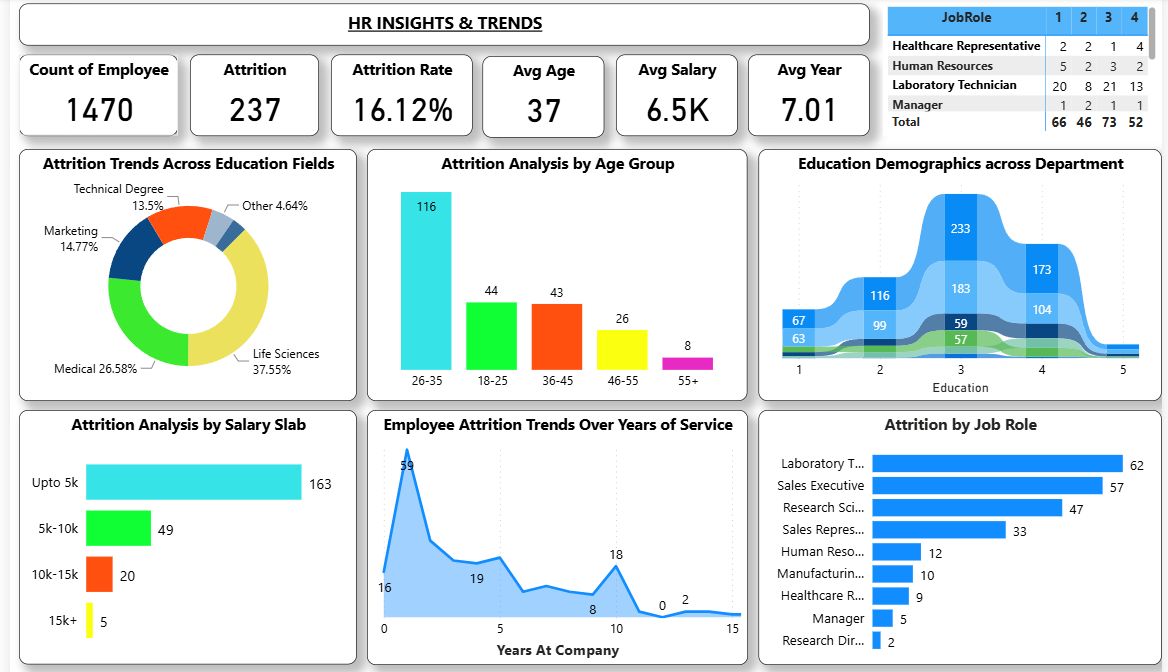

The dashboard page shown, as its layout file describes it:
{"tool":"powerbi","page":{"name":"Dashboard","canvas":[1280,770],"ordinal":1},"visuals":[{"type":"textbox","box":[9.4,10.9,945.5,46.9],"z":0},{"type":"card","title":"Count of Employee","fields":{"Values":["CountNonNull(HR_Analytics.EmpID)"]},"box":[9.5,68.3,176.4,90.6],"z":1000},{"type":"card","title":"Attrition ","fields":{"Values":["Sum(HR_Analytics.Attrition_Count)"]},"box":[200.3,68.3,143,90.6],"z":2000},{"type":"card","title":"Attrition Rate","fields":{"Values":["HR_Analytics.AttritionRate"]},"box":[356,68.3,157.4,90.6],"z":3000},{"type":"card","title":"Avg Age","fields":{"Values":["HR_Analytics.Avg Age"]},"box":[524.5,69.9,135.1,90.6],"z":4000},{"type":"card","title":"Avg Salary","fields":{"Values":["HR_Analytics.Avg_Salary"]},"box":[673.9,68.3,135.1,90.6],"z":5000},{"type":"card","title":"Avg Year","fields":{"Values":["Avg(HR_Analytics.YearsAtCompany)"]},"box":[820.1,68.3,135.1,90.6],"z":6000},{"type":"donutChart","title":"Attrition Trends Across Education Fields","fields":{"Category":["HR_Analytics.EducationField"],"Y":["HR_Analytics.Sum_Attrition_Count"]},"box":[9.5,173.2,375.1,279.7],"z":7000},{"type":"columnChart","title":"Attrition Analysis by Age Group","fields":{"Category":["HR_Analytics.AgeGroup"],"Y":["HR_Analytics.Sum_Attrition_Count"]},"box":[397.4,173.2,422.8,279.7],"z":8000},{"type":"ribbonChart","title":"Education Demographics across Department ","fields":{"Category":["HR_Analytics.Education"],"Y":["CountNonNull(HR_Analytics.Department)"],"Series":["HR_Analytics.EducationField"]},"box":[831.3,173.2,448.2,279.7],"z":9000},{"type":"barChart","title":"Attrition Analysis by Salary Slab","fields":{"Category":["HR_Analytics.SalarySlab"],"Y":["HR_Analytics.Sum_Attrition_Count"]},"box":[9.6,463.4,375.5,282.8],"z":10000},{"type":"areaChart","title":"Employee Attrition Trends Over Years of Service","fields":{"Category":["HR_Analytics.YearsAtCompany"],"Y":["HR_Analytics.Sum_Attrition_Count"]},"box":[397,463,423,283],"z":11000},{"type":"barChart","title":"Attrition by Job Role","fields":{"Category":["HR_Analytics.JobRole"],"Y":["HR_Analytics.Sum_Attrition_Count"]},"box":[831,463,448,283],"z":12000},{"type":"pivotTable","fields":{"Rows":["HR_Analytics.JobRole"],"Columns":["HR_Analytics.JobSatisfaction"],"Values":["HR_Analytics.Sum_Attrition_Count"]},"box":[970,9.6,308.4,148.6],"z":13000}]}

Visuals, with their boxes on the page's 1280x770 design canvas (x1, y1, x2, y2). These are canvas units, not pixel positions in the 1168x672 screenshot, which may show the page scaled, cropped or inside an application window:
textbox: [9, 11, 955, 58]
"Count of Employee" card: [10, 68, 186, 159]
"Attrition " card: [200, 68, 343, 159]
"Attrition Rate" card: [356, 68, 513, 159]
"Avg Age" card: [524, 70, 660, 160]
"Avg Salary" card: [674, 68, 809, 159]
"Avg Year" card: [820, 68, 955, 159]
"Attrition Trends Across Education Fields" donutChart: [10, 173, 385, 453]
"Attrition Analysis by Age Group" columnChart: [397, 173, 820, 453]
"Education Demographics across Department " ribbonChart: [831, 173, 1280, 453]
"Attrition Analysis by Salary Slab" barChart: [10, 463, 385, 746]
"Employee Attrition Trends Over Years of Service" areaChart: [397, 463, 820, 746]
"Attrition by Job Role" barChart: [831, 463, 1279, 746]
pivotTable - HR_Analytics.JobRole x HR_Analytics.JobSatisfaction: [970, 10, 1278, 158]
